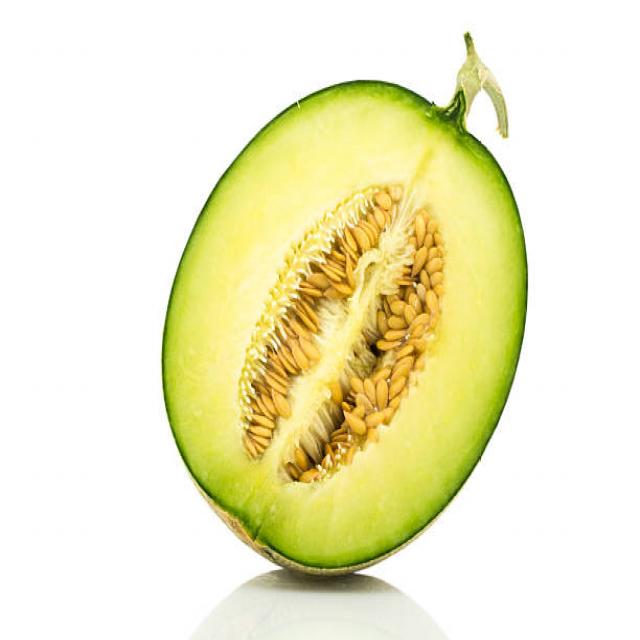melon: (156, 73, 531, 576)
